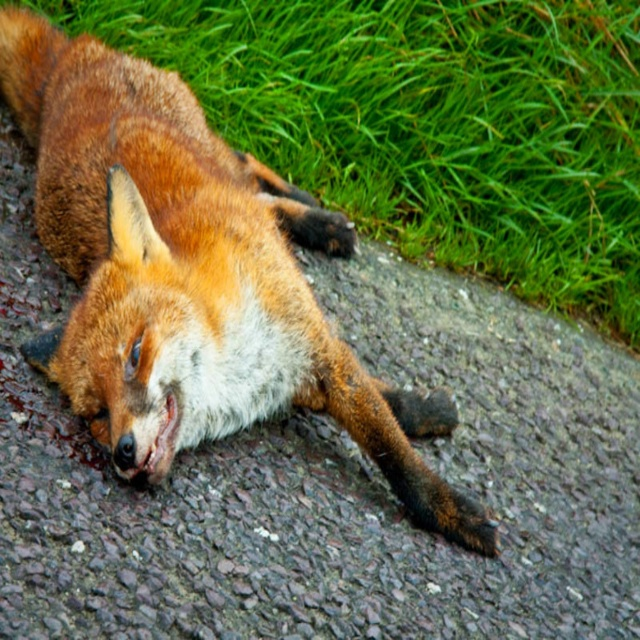Fox: (0, 0, 504, 562)
